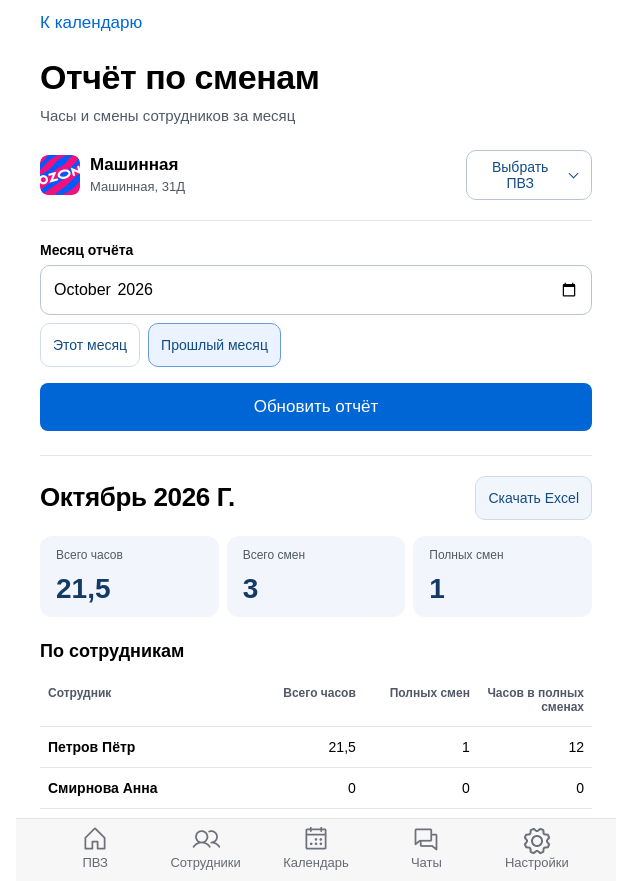
it: успешный ответ json не скачивается как поддельный xlsx
Click the button "Скачать Excel" at (534, 498), box [475, 476, 592, 520]
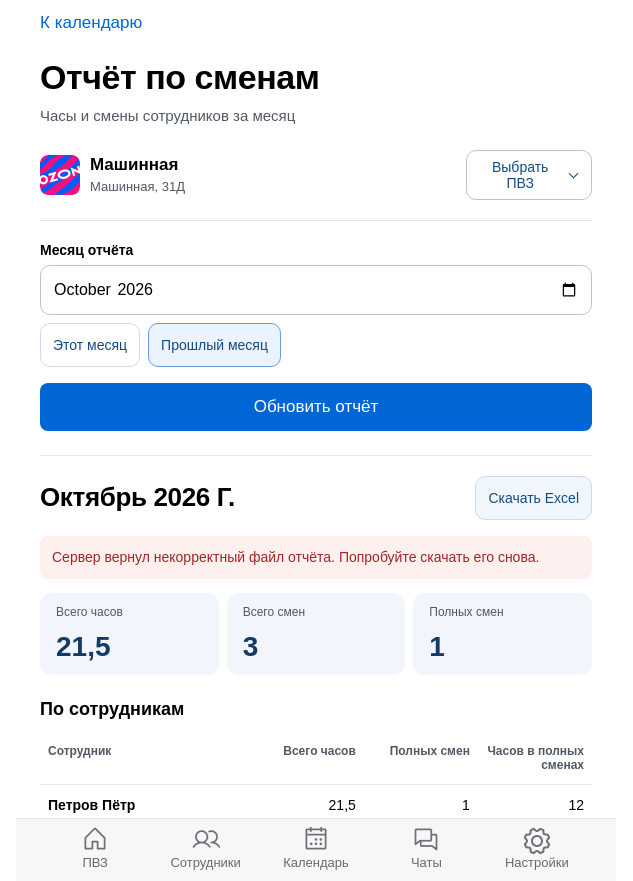
Expected: the message "Сервер вернул некорректный файл отчёта. Попробуйте скачать его снова." is shown, [40, 536, 592, 579]
